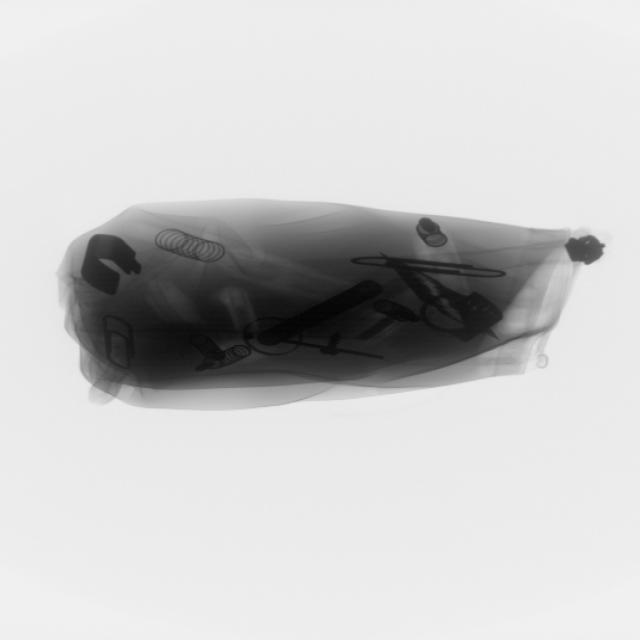BLADE: (378, 242, 497, 353)
